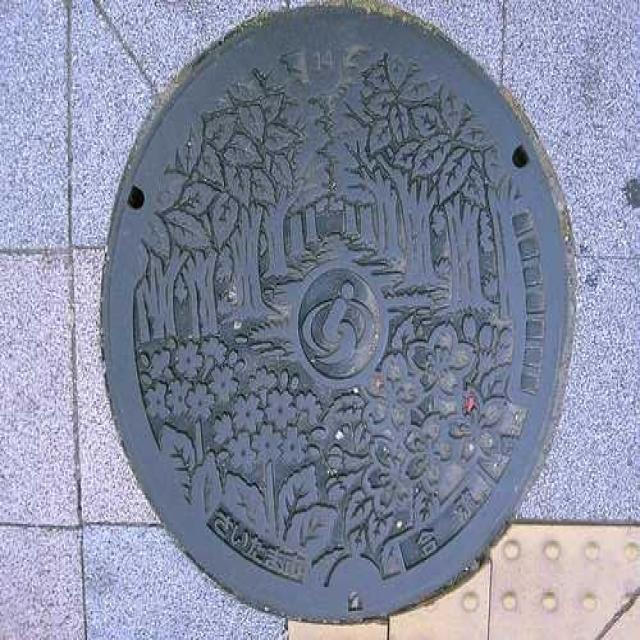manhole: (104, 7, 571, 619)
